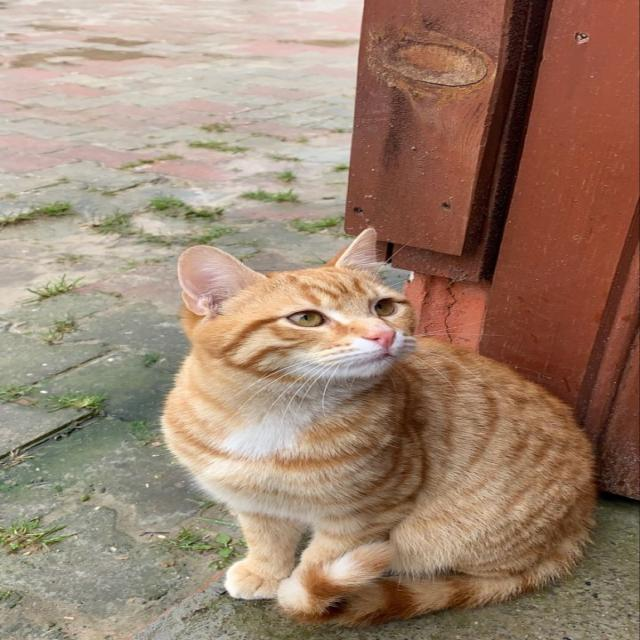sarman: (11, 232, 640, 640)
